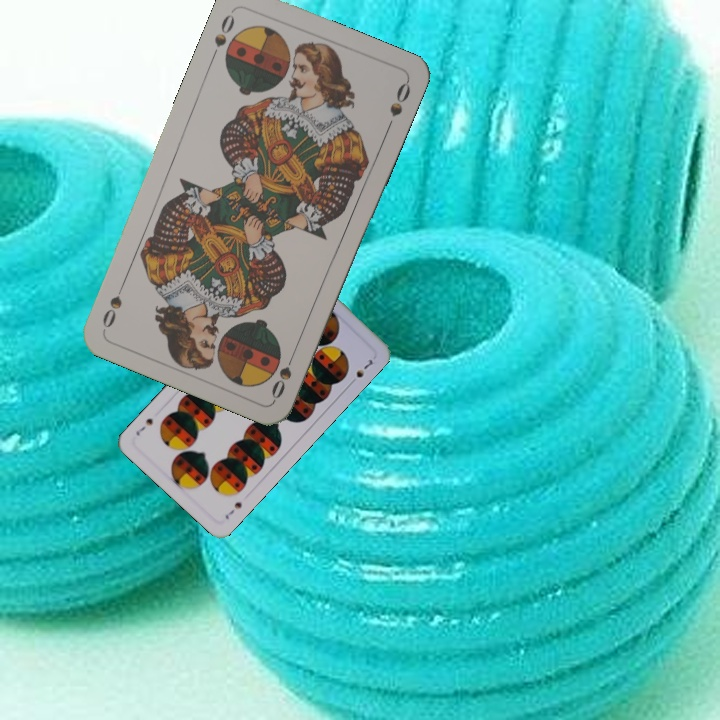S7: (221, 498, 244, 522)
SO: (267, 345, 299, 402), (207, 6, 237, 62)
